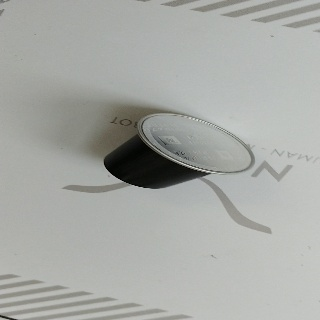capsule_10: (101, 111, 257, 191)
